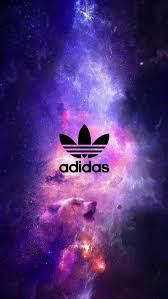adidas: (58, 124, 111, 173)
